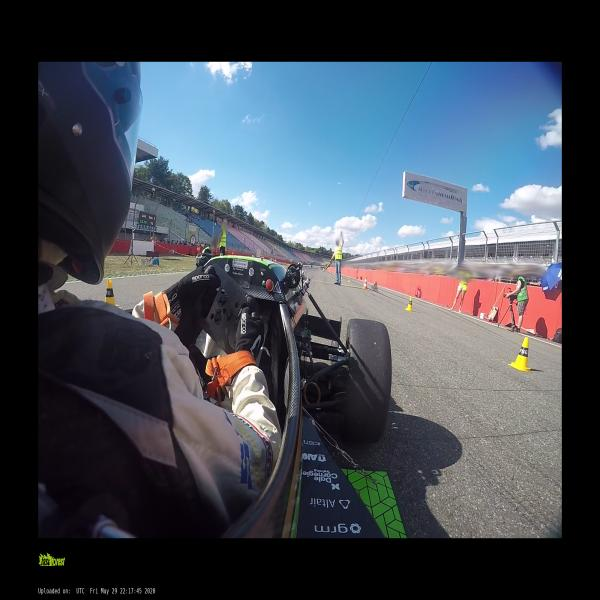large_orange_cone: (363, 278, 367, 290)
yellow_cone: (509, 336, 532, 372), (105, 279, 118, 308), (405, 296, 414, 312), (348, 277, 350, 282)
